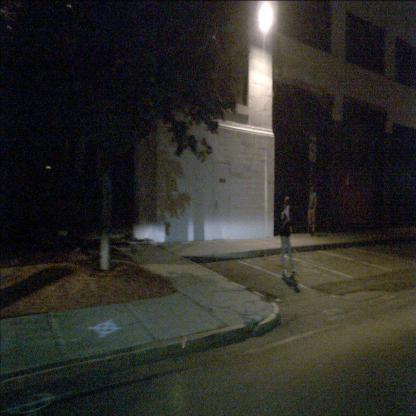human-pedestrian-adult: (278, 196, 297, 278), (306, 184, 318, 236)
